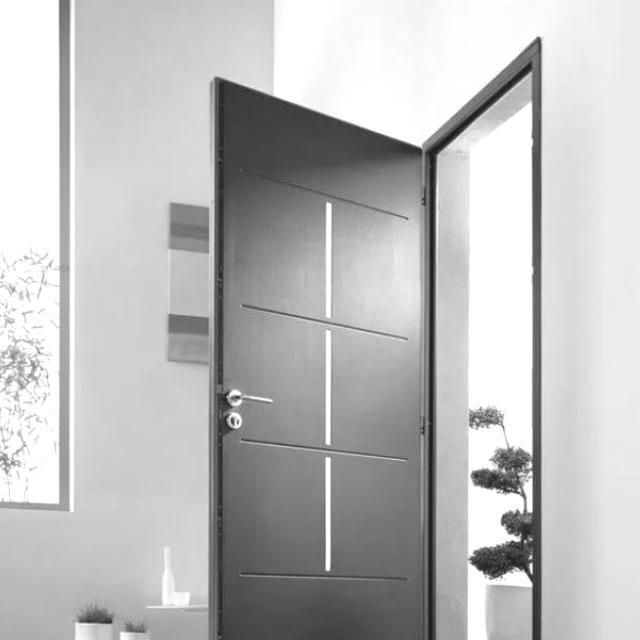door: (209, 76, 431, 638)
